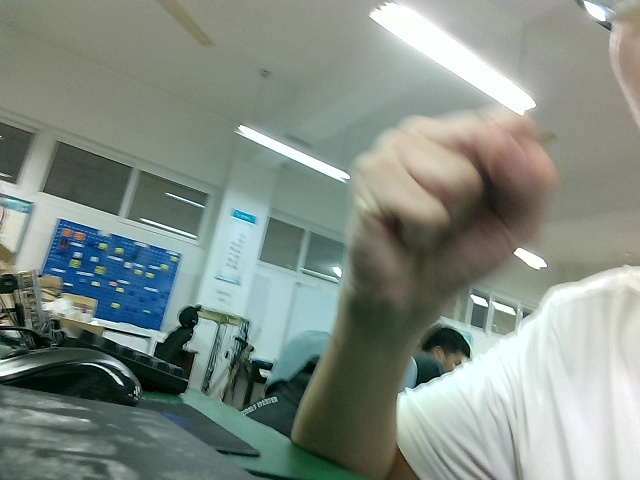stone: (337, 97, 556, 327)
